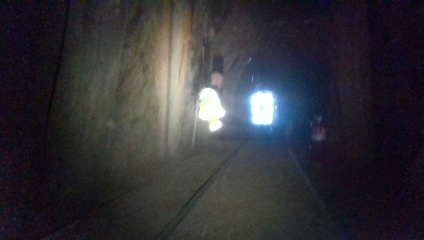fire_extinguisher: (305, 112, 330, 174)
manikin: (196, 72, 248, 144)
